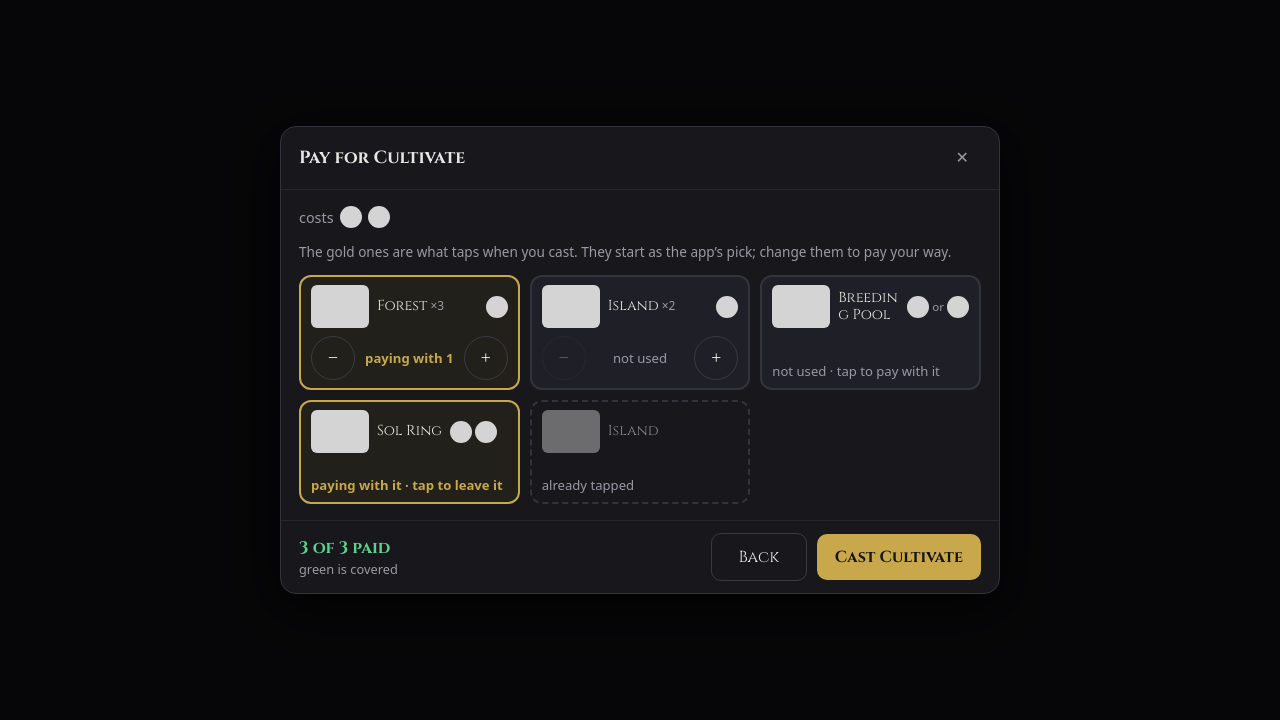
the app's pick comes back with one press
This screenshot has width=1280, height=720.
What coordinates should you click on to do the following:
click the button with aria-label "pay with Sol Ring"
I would click on:
 (409, 452)
Its box is [299,400,520,504].
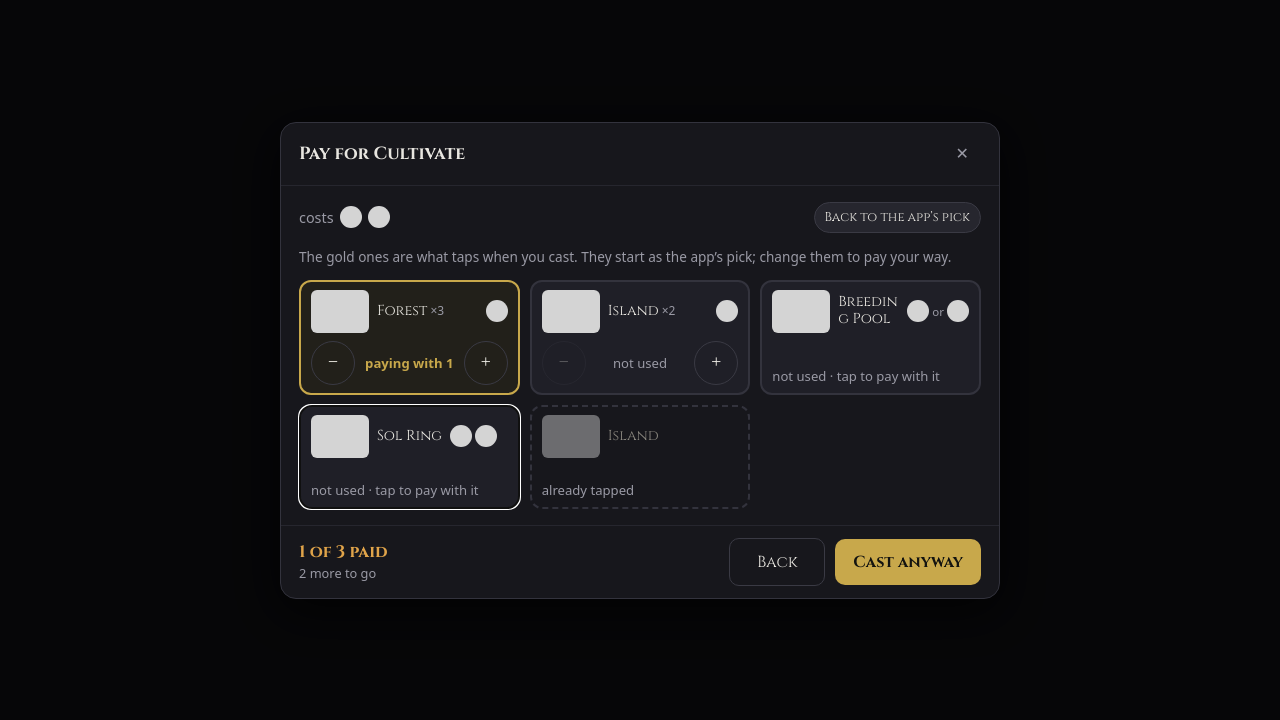
What coordinates should you click on to do the following:
click the button "Back to the app’s pick"
I would click on:
 (897, 217)
Its box is [814,202,981,232].
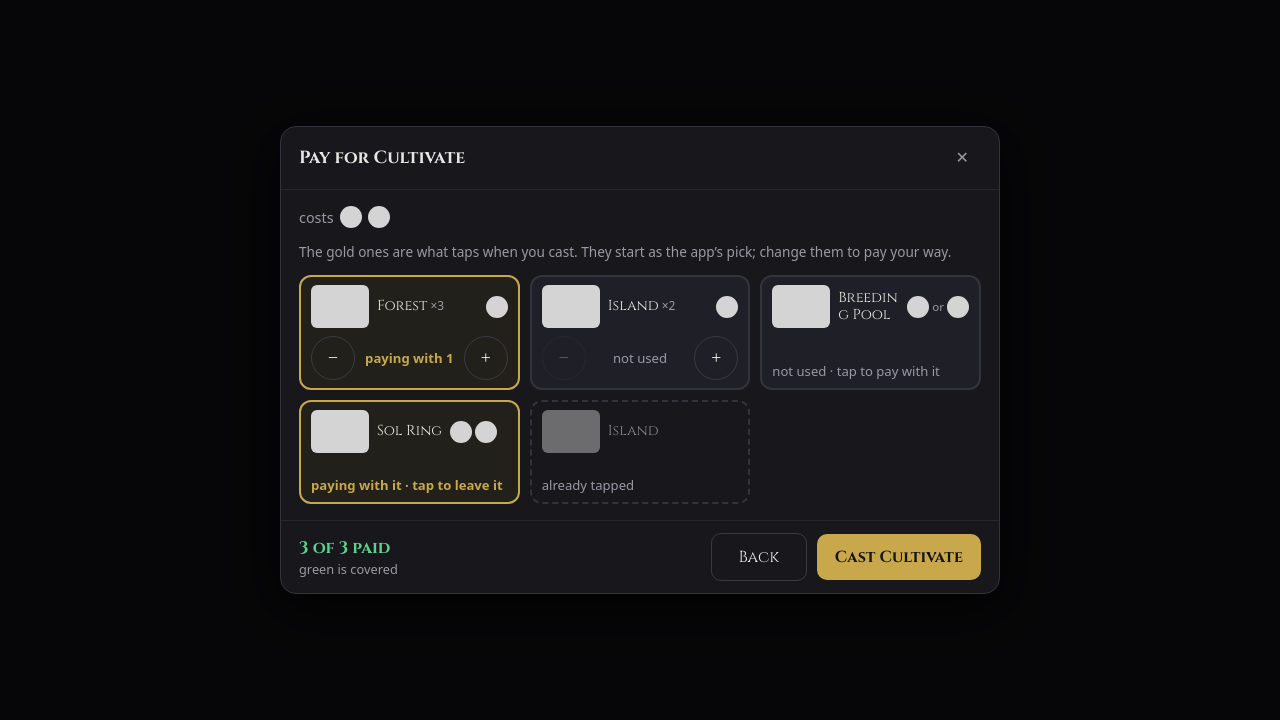
Check: the element showing "3 of 3 paid green is covered" is shown, box [299,536,398,578]
